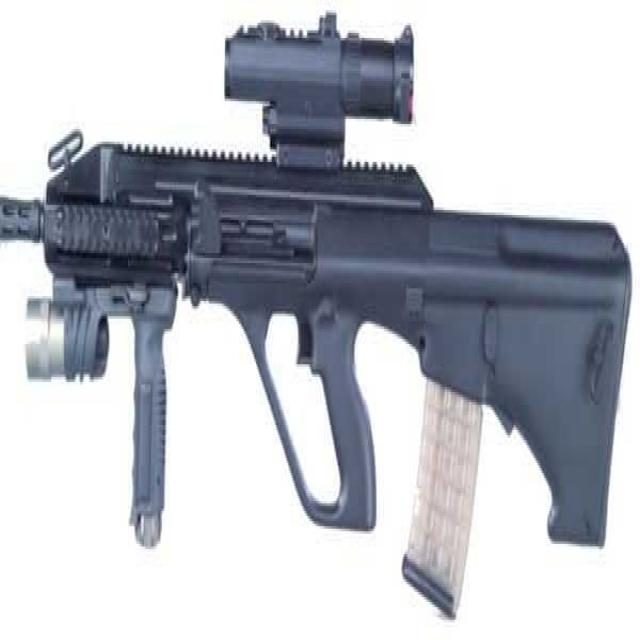RifleTel: (0, 9, 636, 620)
